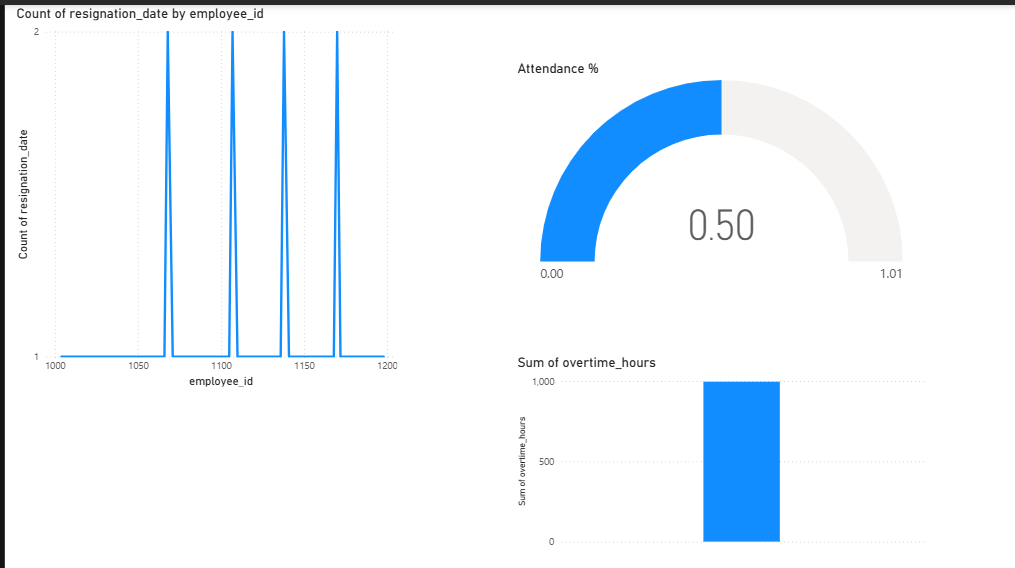

The page's visual inventory and layout, read from the dashboard file:
{"tool":"powerbi","page":{"name":"Attrition & Attendance","canvas":[1280,720],"ordinal":3},"visuals":[{"type":"lineChart","fields":{"Y":["CountNonNull(public attrition.resignation_date)"],"Category":["public employees.employee_id"]},"box":[9.4,0,489.5,485.7],"z":0},{"type":"gauge","fields":{"Y":["public allocations.Attendance %"]},"box":[640.6,69.9,523.5,289.1],"z":1},{"type":"clusteredColumnChart","fields":{"Y":["Sum(public timesheets.overtime_hours)"]},"box":[640.6,440.3,523.5,249.5],"z":2}]}

Visuals, with their boxes in screenshot pixels (x1, y1, x2, y2), scaled from the page's 1280x720 canvas onto the 1015x568 screenshot:
lineChart - CountNonNull(public attrition.resignation_date) x public employees.employee_id: locate(7, 0, 396, 383)
gauge - public allocations.Attendance %: locate(508, 55, 923, 283)
clusteredColumnChart - Sum(public timesheets.overtime_hours): locate(508, 347, 923, 544)
